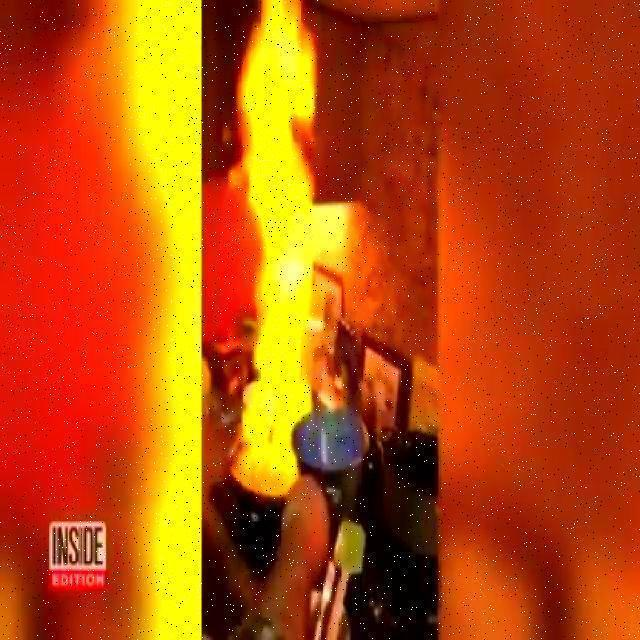smoke: (228, 0, 322, 501)
